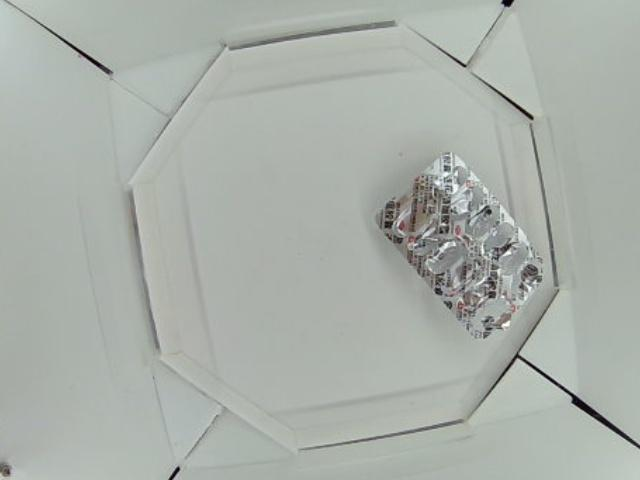Medicine: (372, 145, 546, 339)
